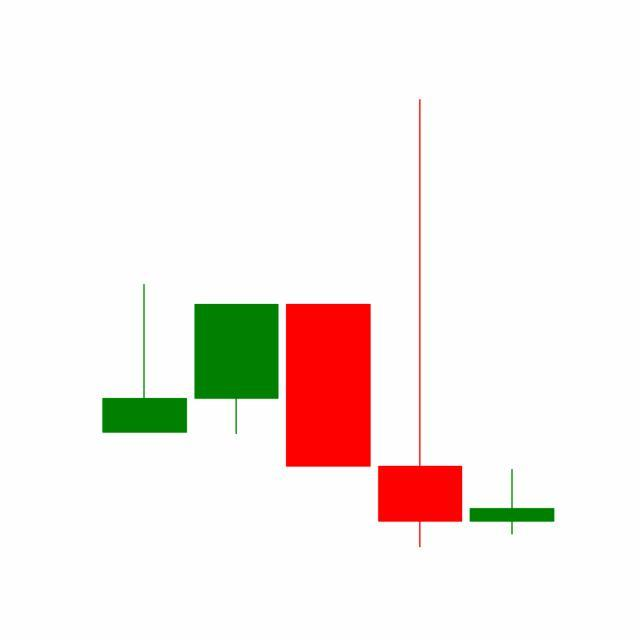Spinning Top: (466, 469, 559, 537)
